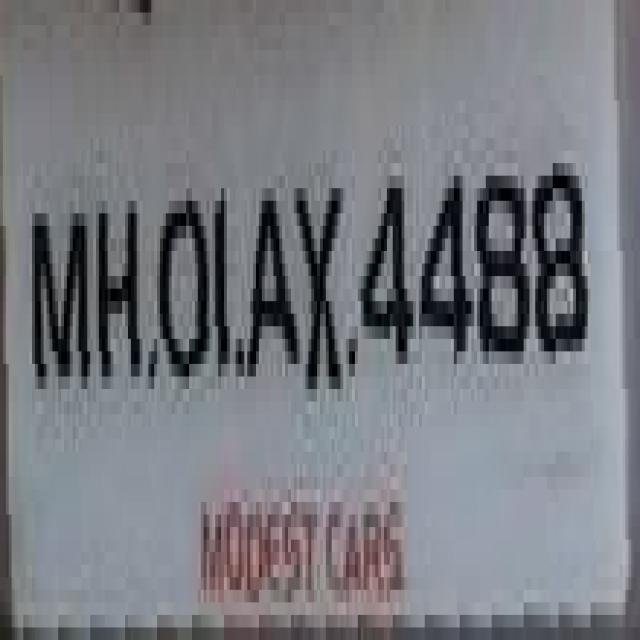license_plate: (35, 0, 640, 577)
